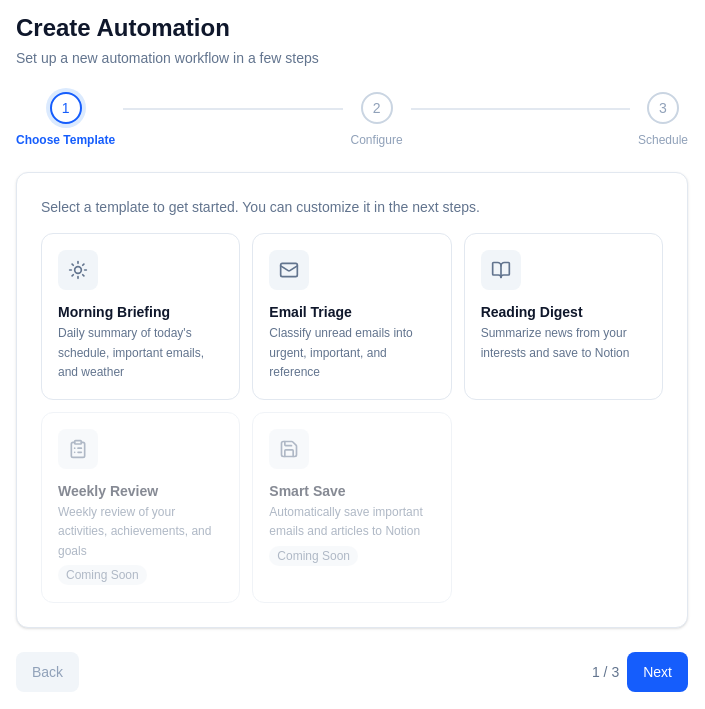
Test: NewAutomationPage — TC-3001, TC-3002 › TC-3002: Create automation → INSERT → redirect to /automations › selecting a template pre-fills the name field on step 2
This screenshot has width=705, height=709.
What coordinates should you click on to do the following:
click the button "Email Triage"
I would click on:
 (352, 316)
Its box is [252,233,452,400].
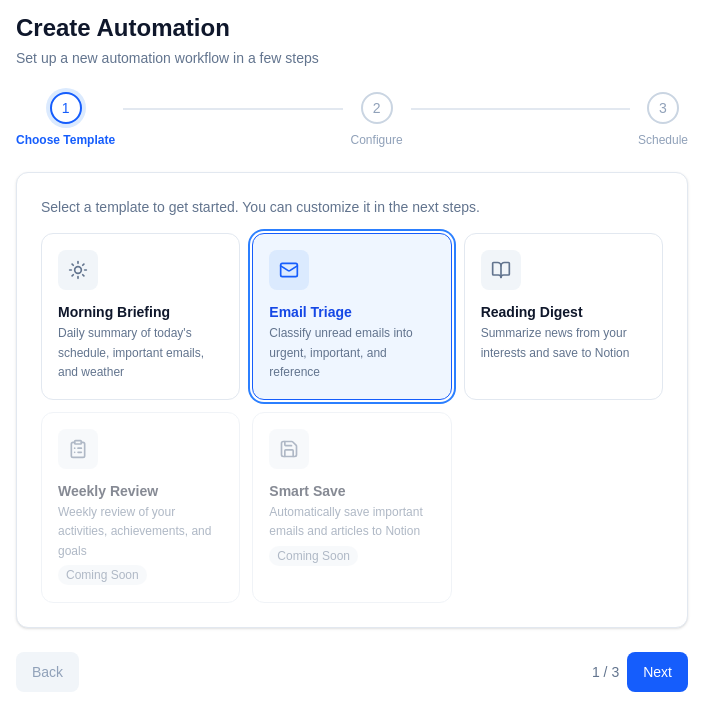
What coordinates should you click on to do the following:
click the button with aria-label "go to next step"
I would click on:
 (658, 672)
Its box is [627,652,688,692].
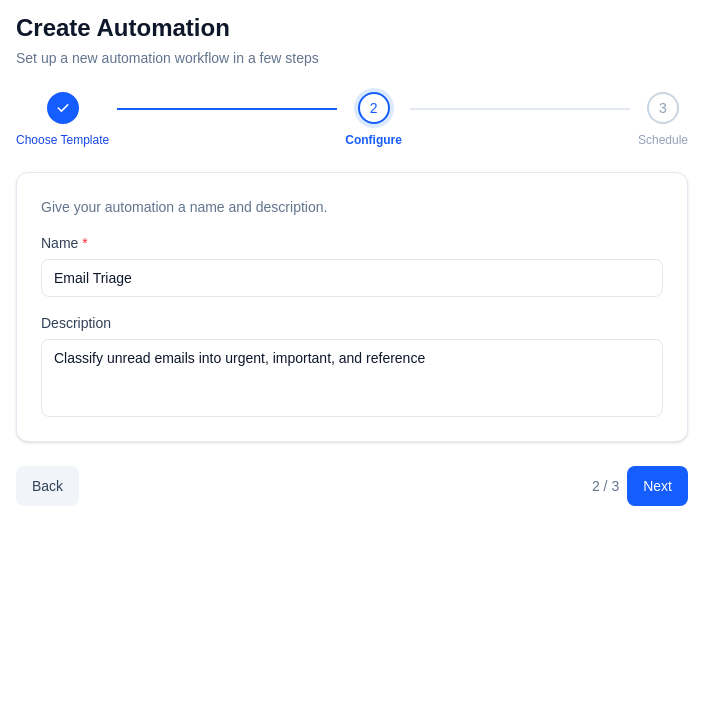
Expected: the field labelled "Name *" holds "Email Triage", [41,259,663,297]
